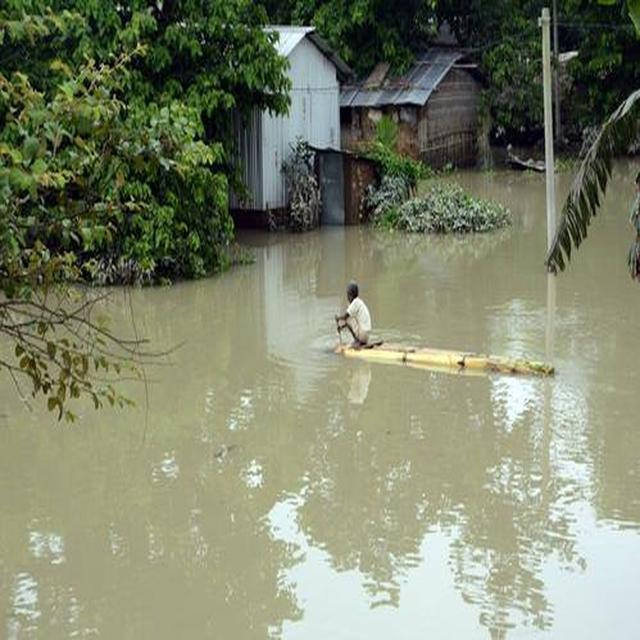Person-RiskLevel3: (318, 277, 400, 356)
